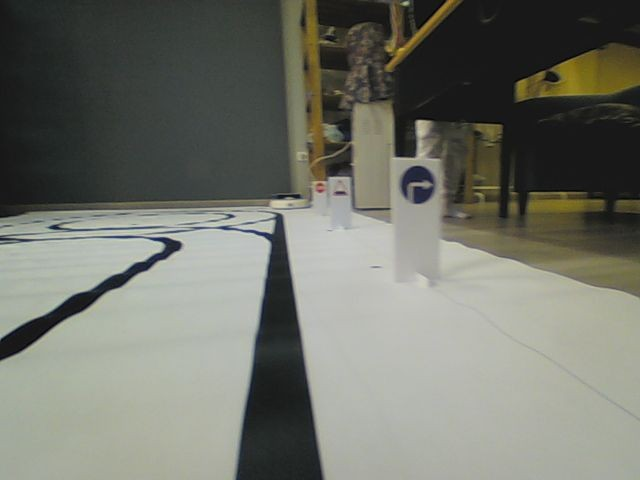Right: (400, 164, 434, 205)
